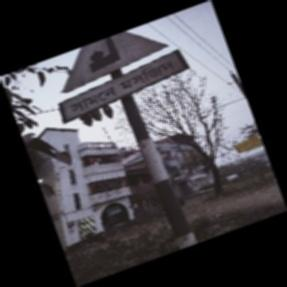Mosque in front: (60, 31, 177, 128)
